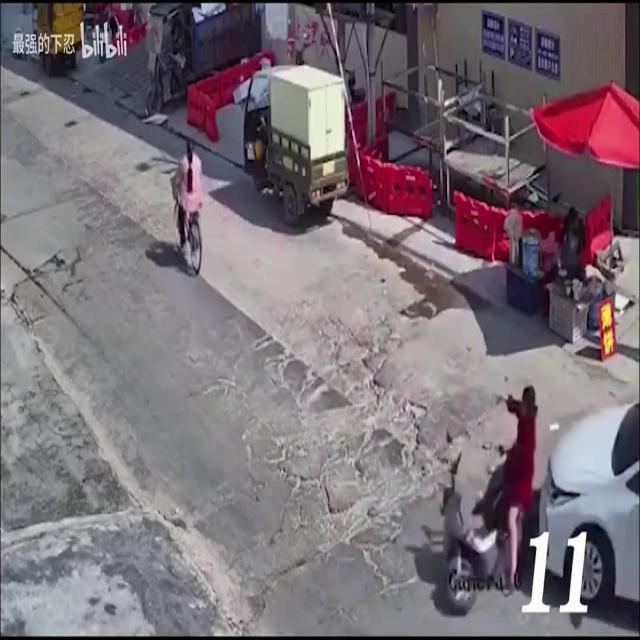accident: (437, 366, 541, 612)
